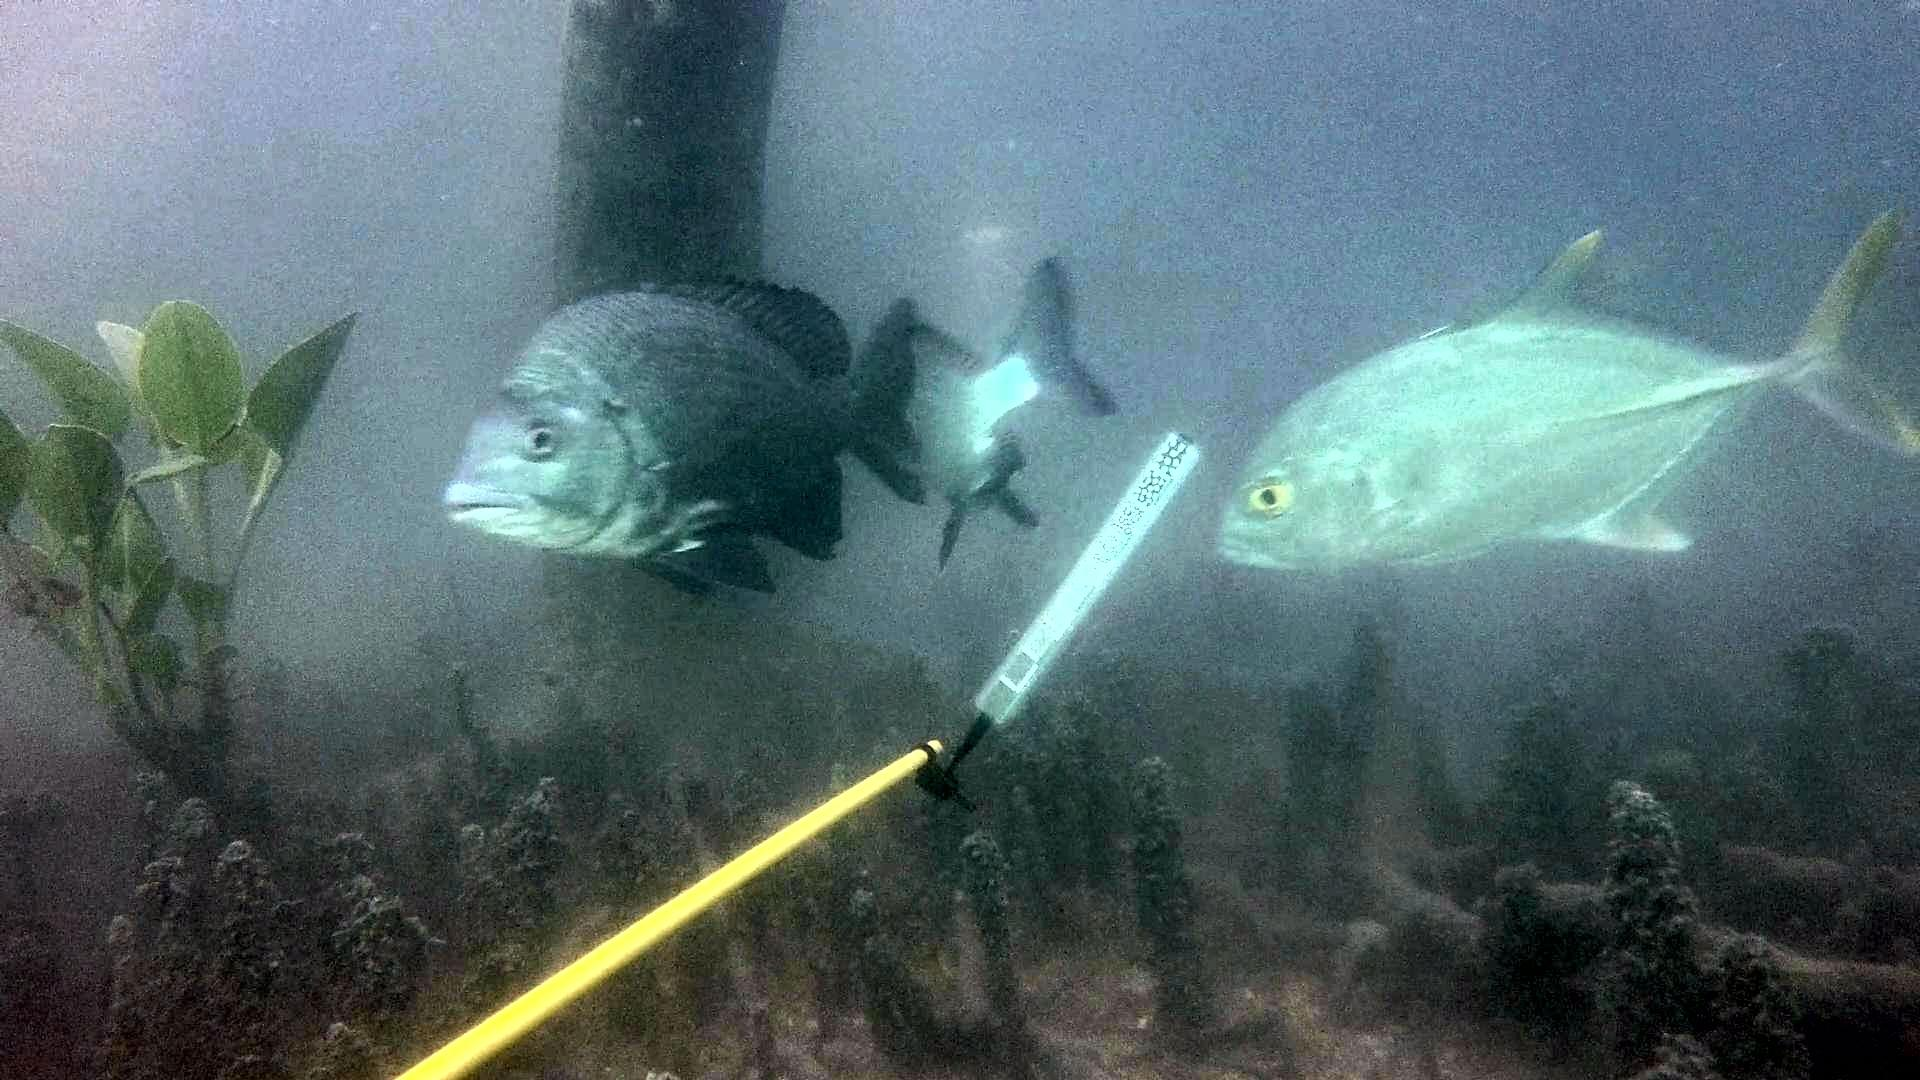acanthopagrus palmaris: (433, 264, 932, 616), (901, 249, 1129, 576)
caranx: (1203, 186, 1920, 591)
